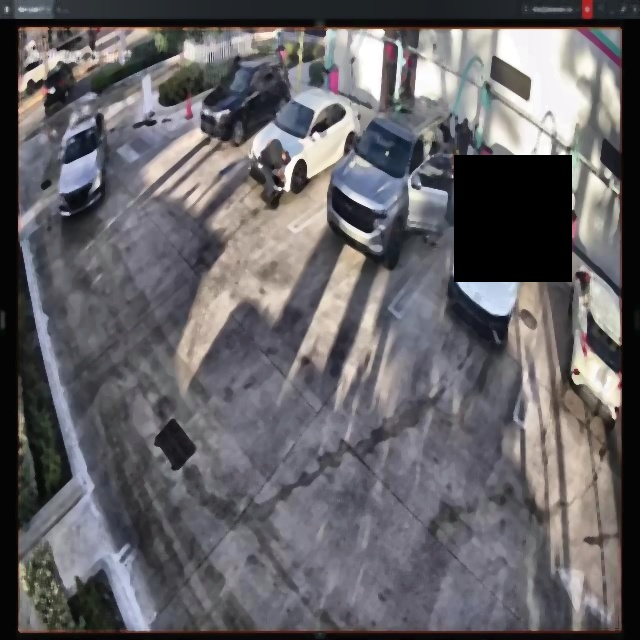Car: (324, 96, 450, 271), (443, 158, 533, 347), (247, 84, 362, 192)
